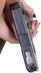pistol: (1, 1, 41, 73)
